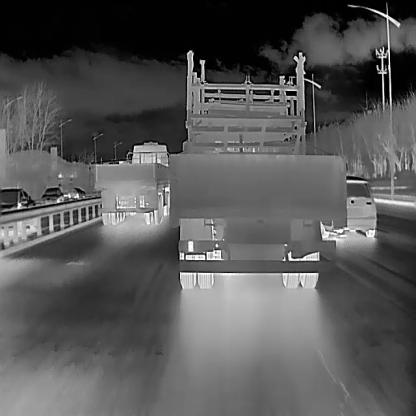car: (318, 174, 376, 239), (0, 185, 35, 225), (40, 186, 64, 205), (66, 186, 84, 200)
truck: (168, 92, 347, 288), (93, 141, 171, 224)
